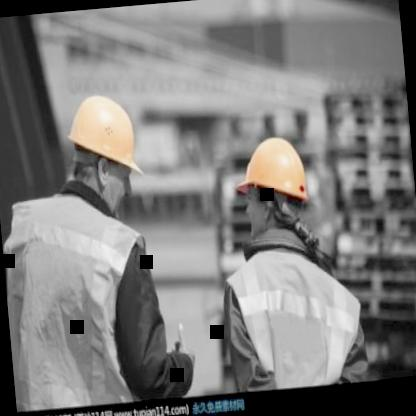helmet: (60, 80, 148, 216), (223, 130, 319, 248)
